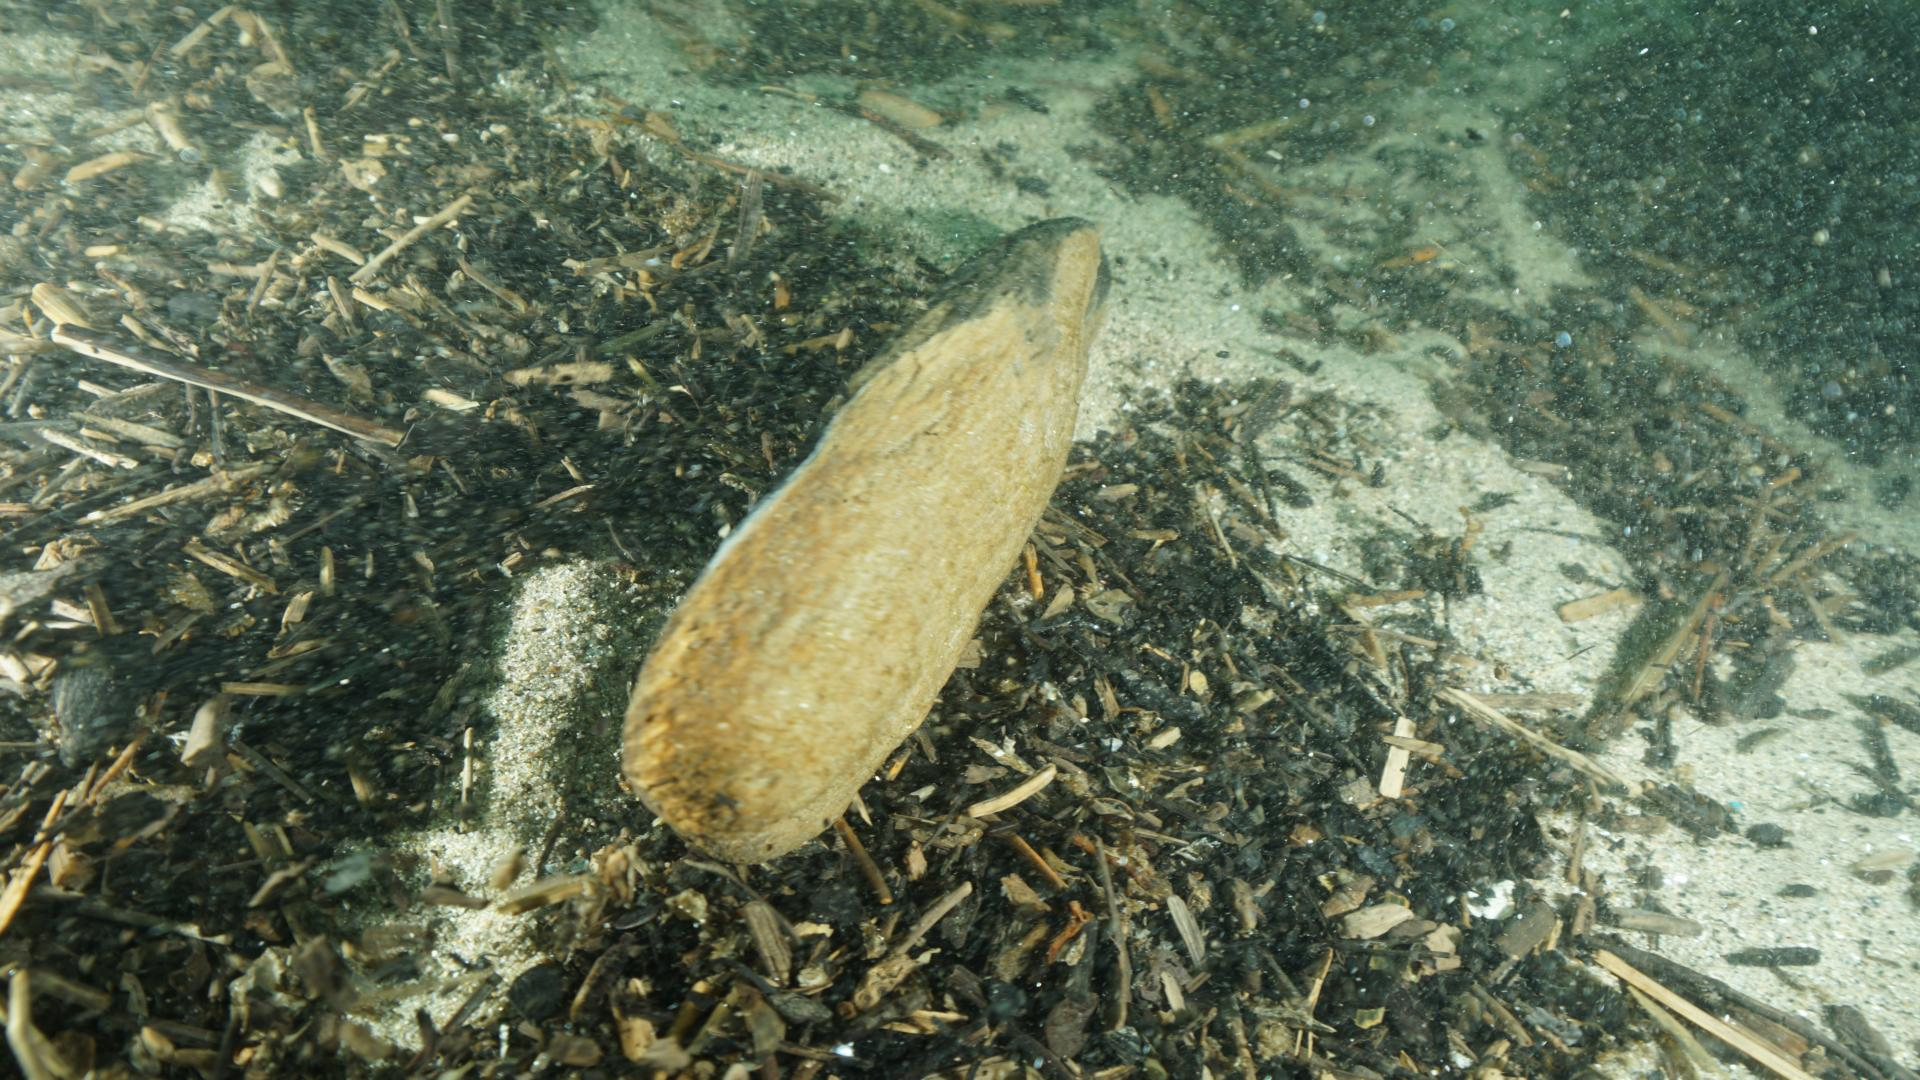wood: (615, 214, 1108, 861)
